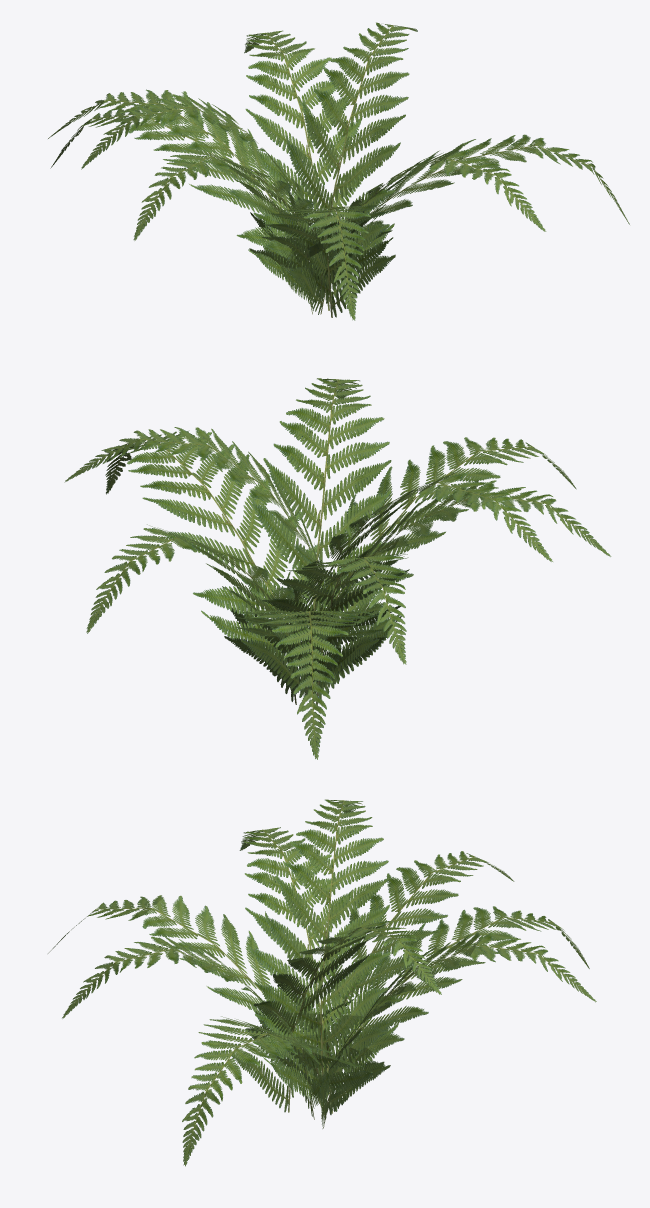
File: plant.obj
3 views of the same model, one above another, from view 1: azimuth 30°, elevation 25°; view 2: azimuth 150°, elevation 25°; view 3: azimuth 270°, elevation 25° (orthographic). The views are drawn at different scales.
Visible parts, largest first — view 1: Plane.012_Plane.013, Plane.013_Plane.014, Plane.009_Plane.010, Plane.015_Plane.016, Plane.017_Plane.018, Plane.011_Plane.012, Plane.010_Plane.011, Plane.016_Plane.017, Plane.014_Plane.015; view 2: Plane.011_Plane.012, Plane.016_Plane.017, Plane.015_Plane.016, Plane.009_Plane.010, Plane.017_Plane.018, Plane.013_Plane.014, Plane.014_Plane.015, Plane.012_Plane.013, Plane.010_Plane.011; view 3: Plane.014_Plane.015, Plane.010_Plane.011, Plane.009_Plane.010, Plane.012_Plane.013, Plane.015_Plane.016, Plane.017_Plane.018, Plane.016_Plane.017, Plane.013_Plane.014, Plane.011_Plane.012.
Boxes of the visible parts, x1=… form: Plane.012_Plane.013: x1=265, y1=22, x2=417, y2=317; Plane.013_Plane.014: x1=244, y1=30, x2=394, y2=310; Plane.009_Plane.010: x1=48, y1=89, x2=317, y2=314; Plane.015_Plane.016: x1=249, y1=205, x2=393, y2=320; Plane.017_Plane.018: x1=50, y1=102, x2=324, y2=298; Plane.011_Plane.012: x1=289, y1=147, x2=546, y2=314; Plane.010_Plane.011: x1=133, y1=147, x2=353, y2=301; Plane.016_Plane.017: x1=320, y1=134, x2=629, y2=290; Plane.014_Plane.015: x1=81, y1=92, x2=337, y2=271; Plane.011_Plane.012: x1=238, y1=378, x2=399, y2=699; Plane.016_Plane.017: x1=105, y1=430, x2=337, y2=668; Plane.015_Plane.016: x1=286, y1=437, x2=576, y2=693; Plane.009_Plane.010: x1=240, y1=553, x2=409, y2=705; Plane.017_Plane.018: x1=224, y1=610, x2=386, y2=759; Plane.013_Plane.014: x1=86, y1=524, x2=341, y2=704; Plane.014_Plane.015: x1=265, y1=471, x2=552, y2=669; Plane.012_Plane.013: x1=64, y1=427, x2=341, y2=659; Plane.010_Plane.011: x1=302, y1=480, x2=611, y2=697; Plane.014_Plane.015: x1=252, y1=799, x2=397, y2=1092; Plane.010_Plane.011: x1=239, y1=827, x2=398, y2=1113; Plane.009_Plane.010: x1=293, y1=851, x2=514, y2=1118; Plane.012_Plane.013: x1=231, y1=921, x2=441, y2=1112; Plane.015_Plane.016: x1=48, y1=895, x2=330, y2=1111; Plane.017_Plane.018: x1=317, y1=906, x2=589, y2=1114; Plane.016_Plane.017: x1=182, y1=1016, x2=372, y2=1166; Plane.013_Plane.014: x1=319, y1=932, x2=596, y2=1128; Plane.011_Plane.012: x1=62, y1=934, x2=328, y2=1119.
Size of the model in its own units: 1.36 by 0.5858 by 1.36.
Materials: 1 (1 with a texture image).
